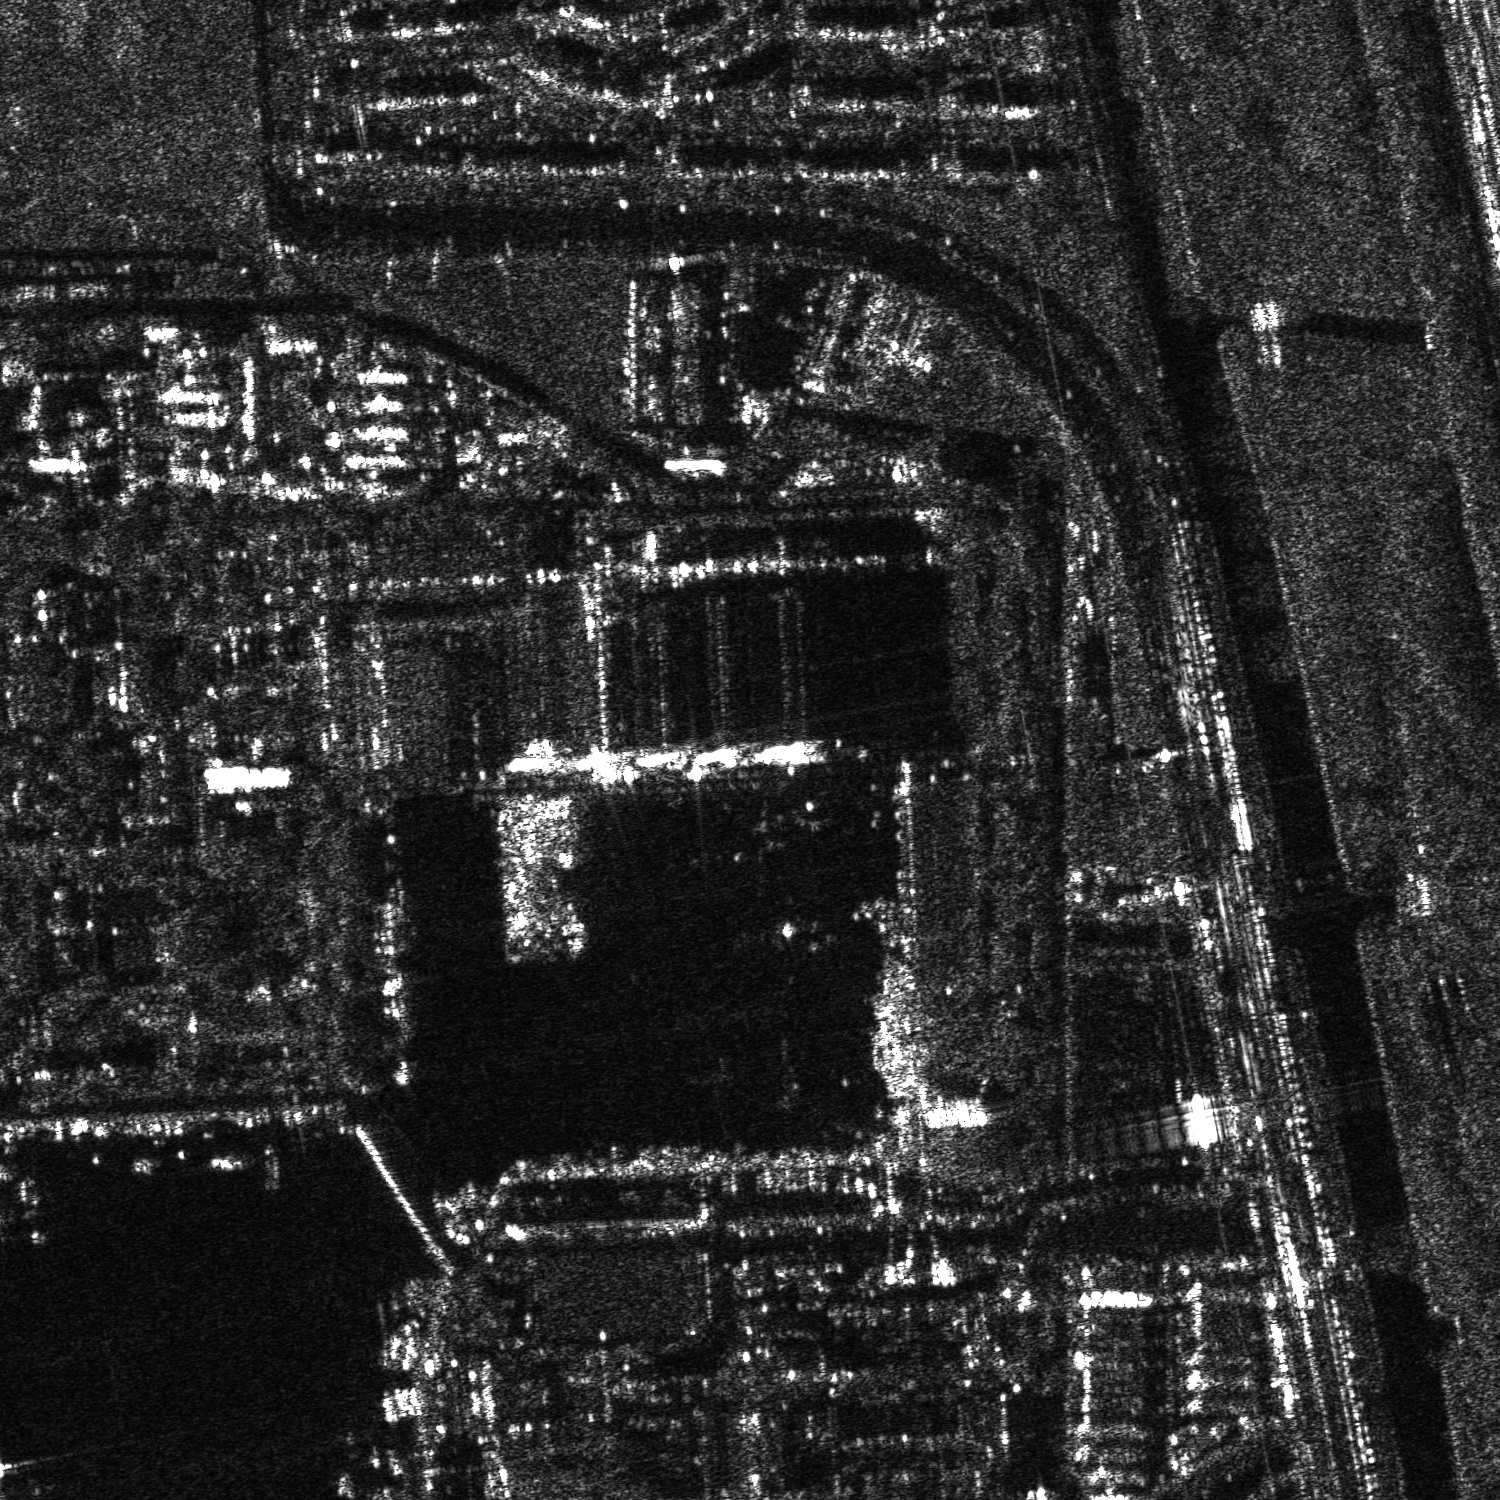ARJ21: (7, 1163, 49, 1245)
other: (731, 788, 839, 859)
